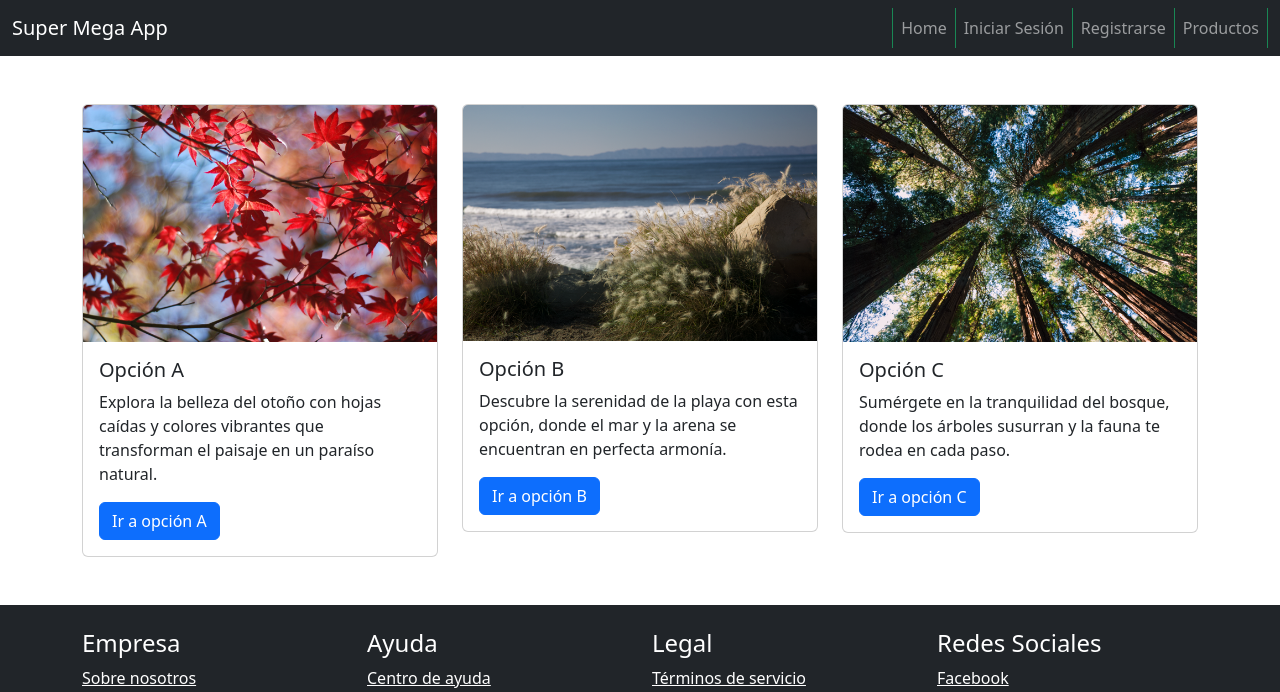
it: debe mostrar error si el nombre es menor de 3 caracteres
Click the link to "/register" at point(1124, 28), box [1073, 8, 1175, 48]
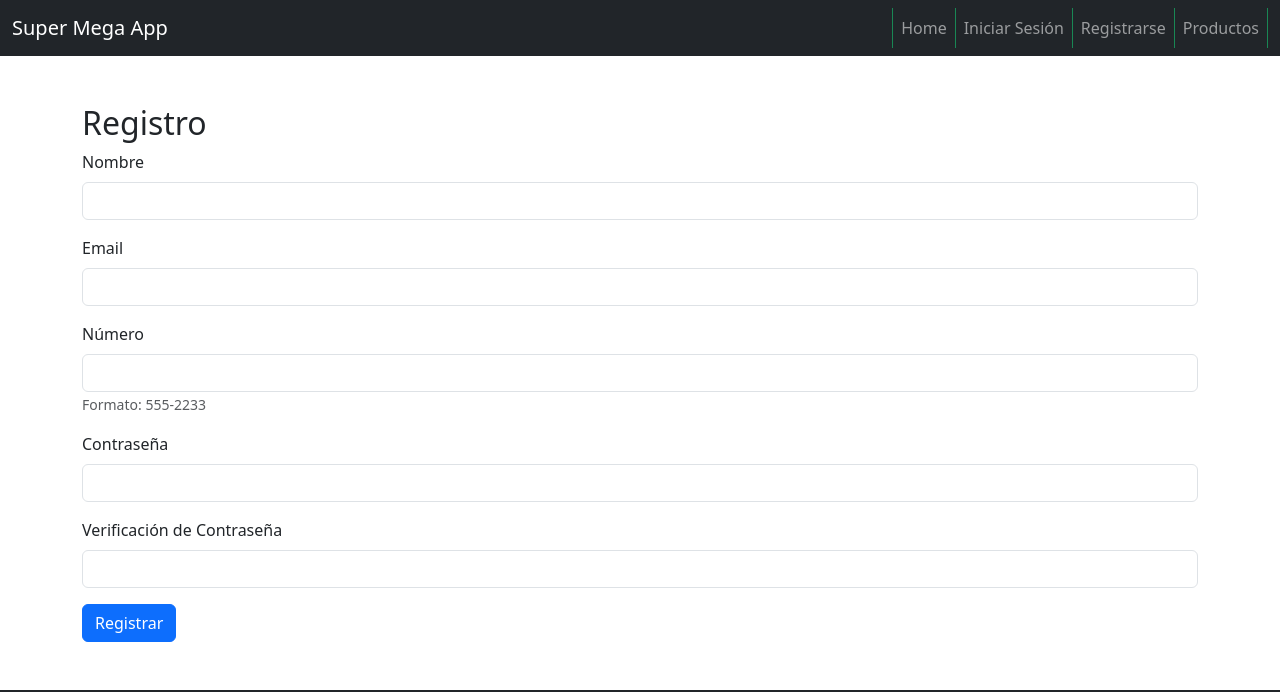
Type "Jo" into the field named "name" at point(640, 201), box [82, 182, 1198, 220]
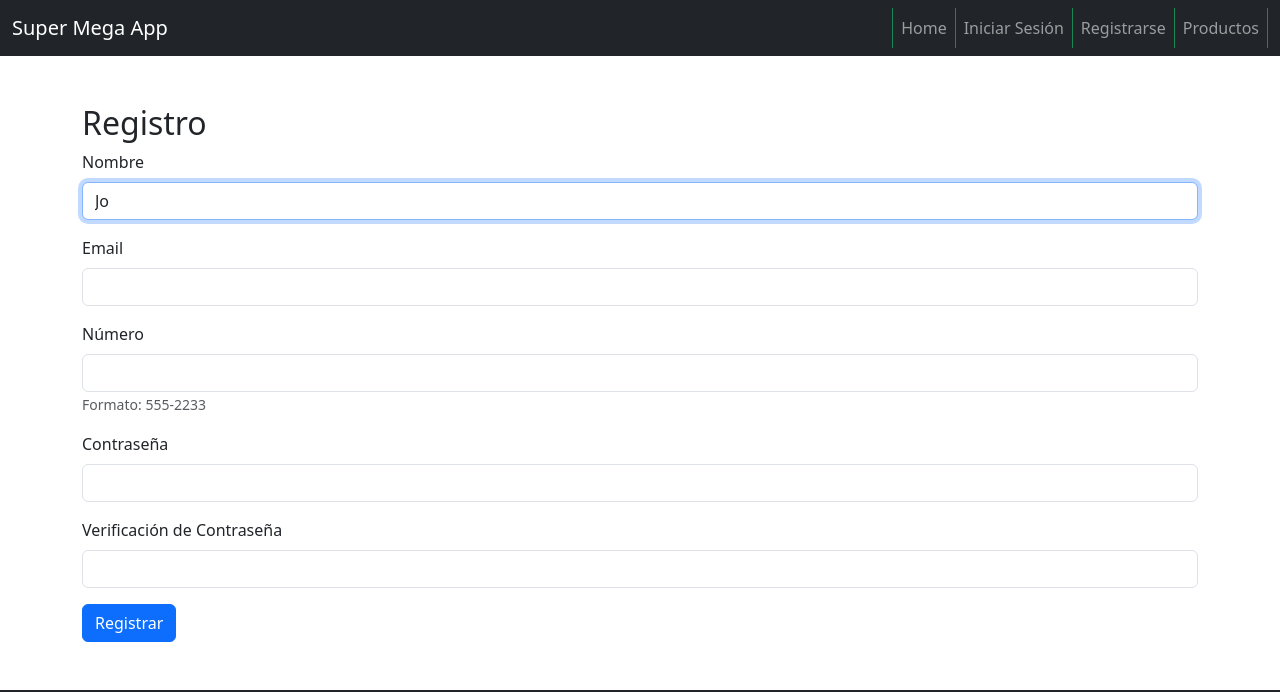
Submit the form
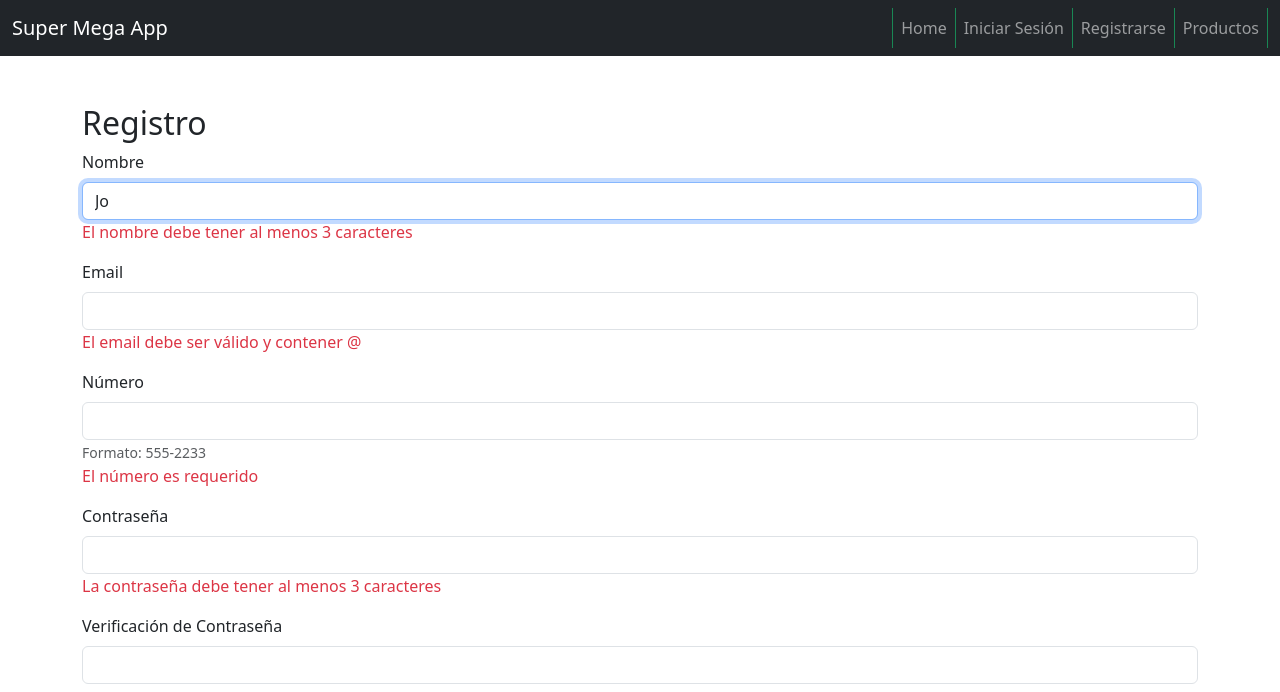
Check: the text "El nombre debe tener al menos 3 caracteres" is shown, box [82, 221, 413, 243]
